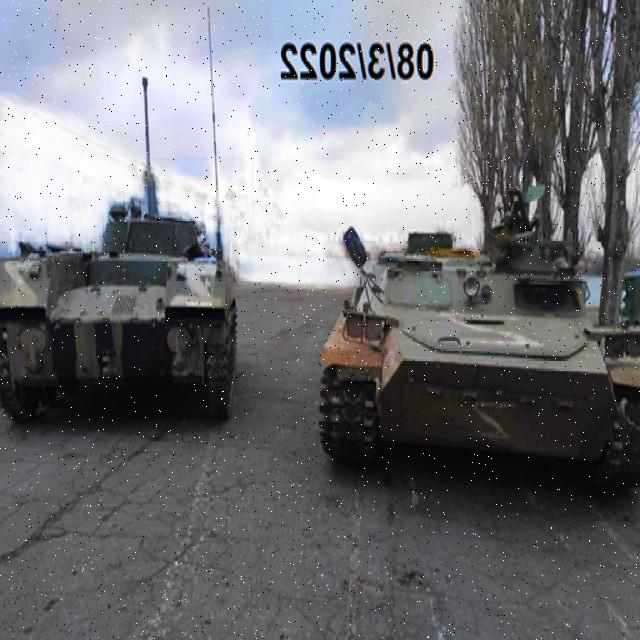APC-IFV: (316, 215, 640, 496), (2, 73, 244, 429)
